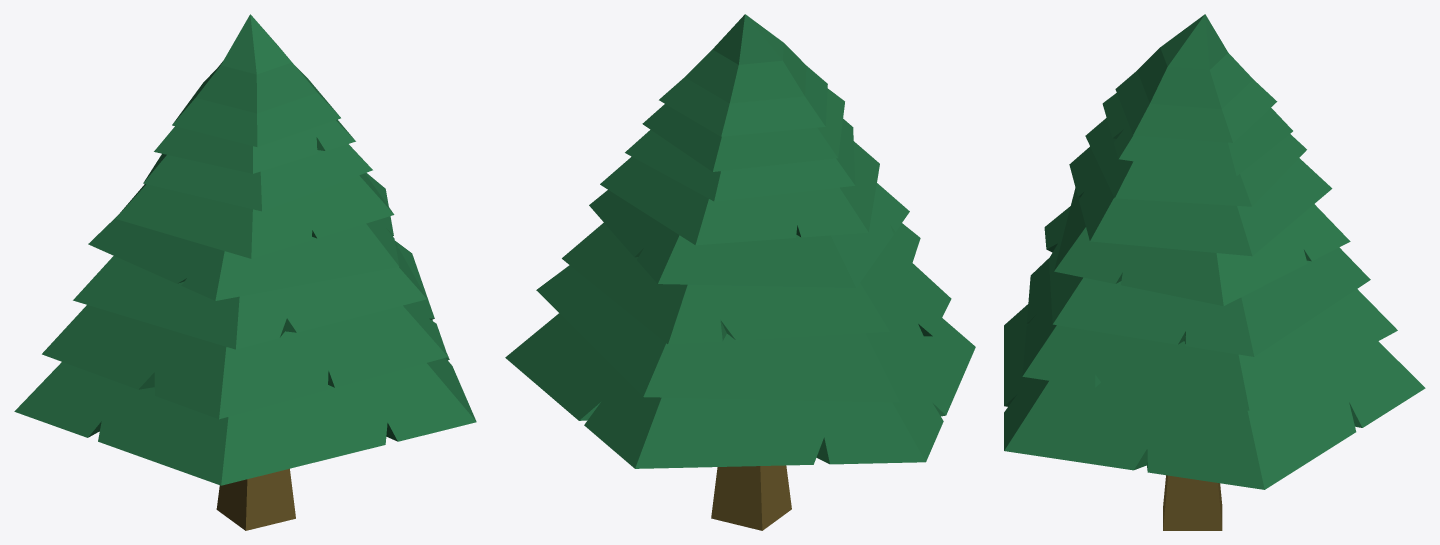
The model's file is PINETREE_V4.fbx.
3 renders of one model, left to right at view 1: azimuth 30°, elevation 25°; view 2: azimuth 150°, elevation 25°; view 3: azimuth 270°, elevation 25°, orthographic.
Visible parts, largest first — view 1: Cube; view 2: Cube; view 3: Cube.
Part boxes in pixels (bbox=[...]): Cube: bbox=[14, 14, 476, 530]; Cube: bbox=[505, 14, 975, 530]; Cube: bbox=[1004, 14, 1425, 530].
Bounding box in the file's own units: 832 × 953 × 722.
